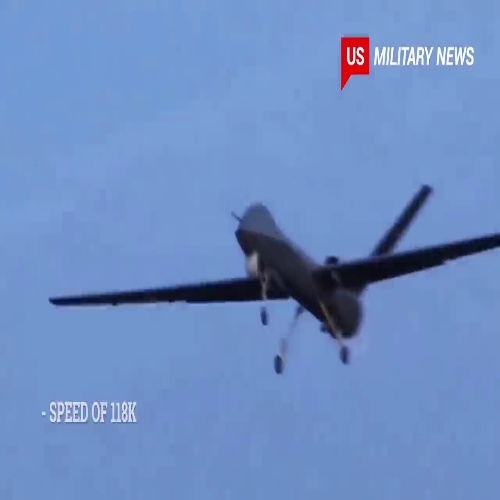uav: (49, 185, 495, 379)
